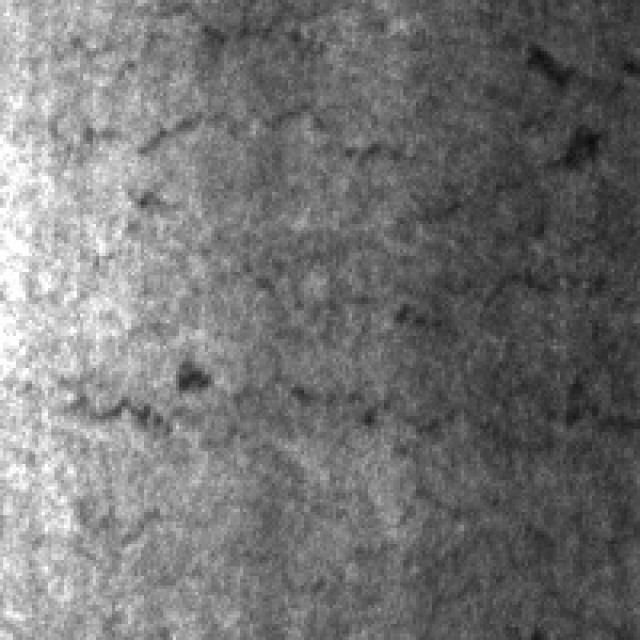crazing: (83, 99, 560, 499), (54, 25, 464, 234), (67, 483, 637, 624)
